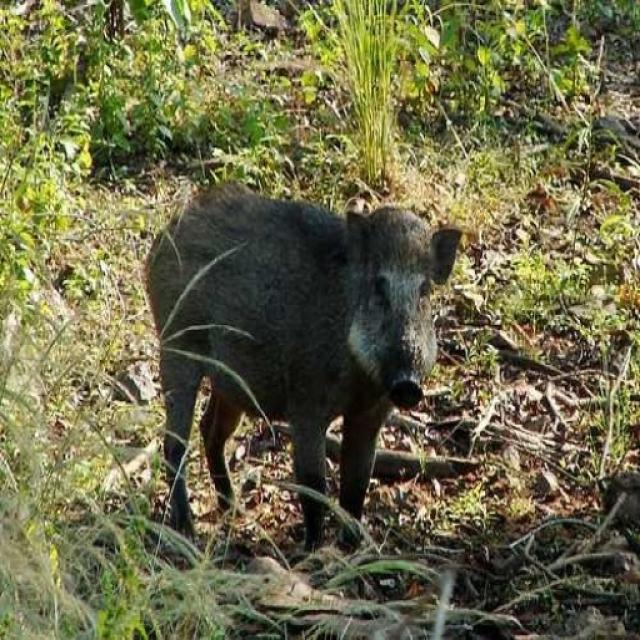pig: (114, 133, 473, 587)
